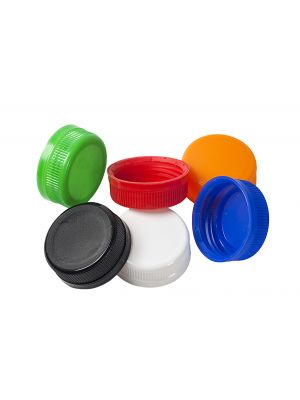PlasticCap: (44, 206, 126, 280), (33, 127, 107, 200), (195, 181, 263, 256), (108, 156, 189, 205)
